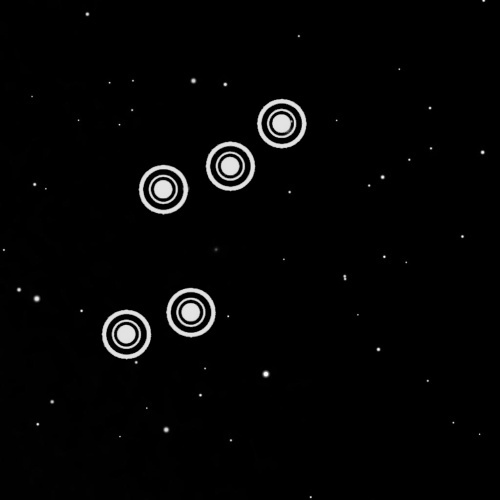lyra: (88, 80, 331, 373)
